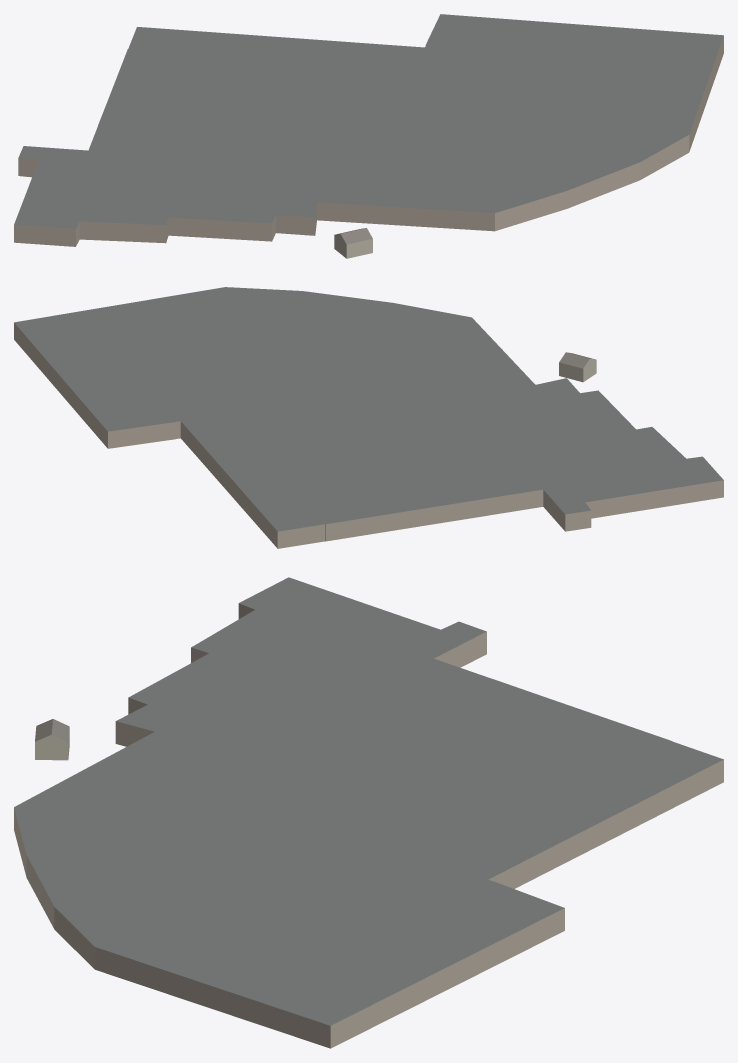
The model's file is 35469b2b6180-chunk-1208_11837.glb.
3 renders of one model, top to bottom at view 1: azimuth 30°, elevation 25°; view 2: azimuth 150°, elevation 25°; view 3: azimuth 270°, elevation 25°, orthographic. The views are drawn at different scales.
Visible parts, largest first — view 1: building_120993, building_137954; view 2: building_120993, building_137954; view 3: building_120993, building_137954.
Boxes of the visible parts, x1,y1,x2,y2 form: building_120993: (14, 14, 723, 246); building_137954: (334, 228, 372, 258); building_120993: (14, 287, 723, 548); building_137954: (559, 352, 596, 382); building_120993: (14, 577, 723, 1048); building_137954: (35, 719, 69, 760).
Size of the model in its own units: 343 by 9.07 by 229.
